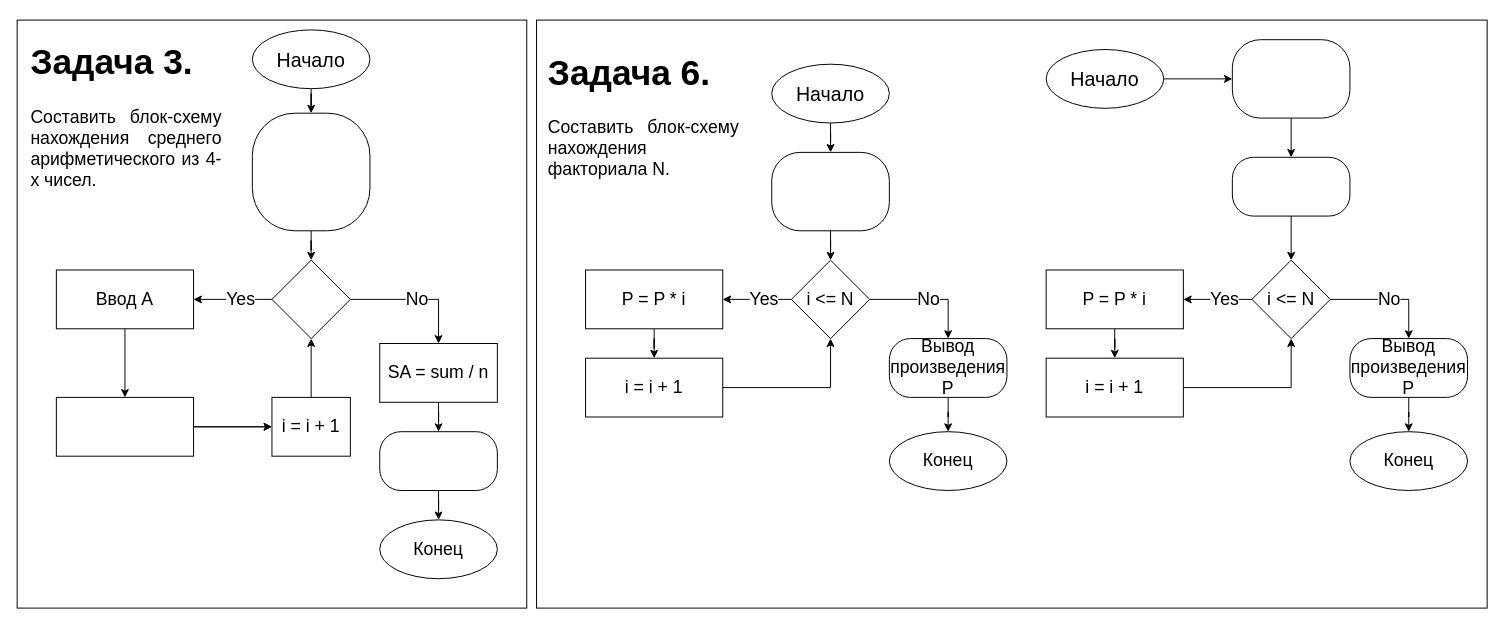
This 1504x625 diagram has some shape labels left out. The shapes that lost their labels are listed below. From the top down, each one's centre as x and y in pixels, then its label:
At pixel 1290 78: "i = 2 P = 1".
At pixel 310 171: "n = 4 i = 0 A = 0 sum = 0 SA = 0".
At pixel 830 191: "N = 10 i = 2 P = 1".
At pixel 1290 186: "Ввод N".
At pixel 310 299: "i < n".
At pixel 124 426: "sum = sum + A".
At pixel 438 460: "Вывод SA".
